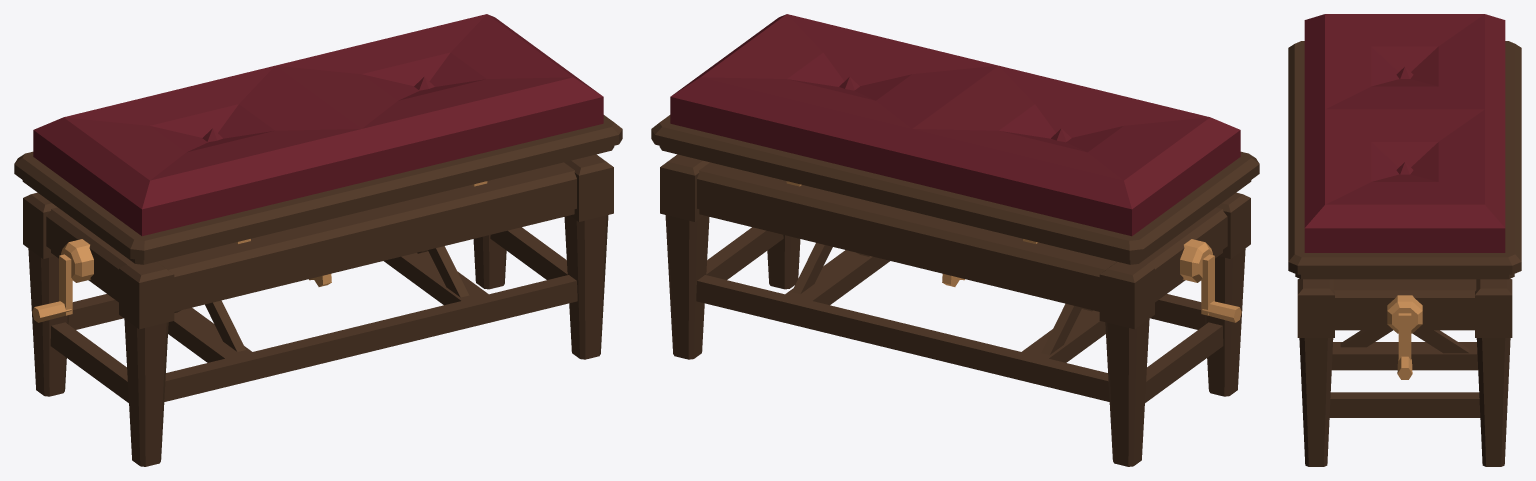
Rendered from keyboard-bench-564d56.glb.
The picture shows the model from 3 angles, left to right: view 1: azimuth 30°, elevation 25°; view 2: azimuth 150°, elevation 25°; view 3: azimuth 270°, elevation 25°; orthographic projection. The views are drawn at different scales.
Parts seen in each view (by area): view 1: bench-matte, crank-left-mesh; view 2: bench-matte, crank-left-mesh; view 3: bench-matte, crank-right-mesh.
Boxes of the visible parts, <box> form: bench-matte: <box>14,14,622,466</box>; crank-left-mesh: <box>32,239,93,322</box>; bench-matte: <box>651,14,1259,466</box>; crank-left-mesh: <box>1180,239,1241,322</box>; bench-matte: <box>1288,14,1521,466</box>; crank-right-mesh: <box>1387,295,1422,379</box>.
Bounding box in the file's own units: 1.03 × 0.48 × 0.4.
